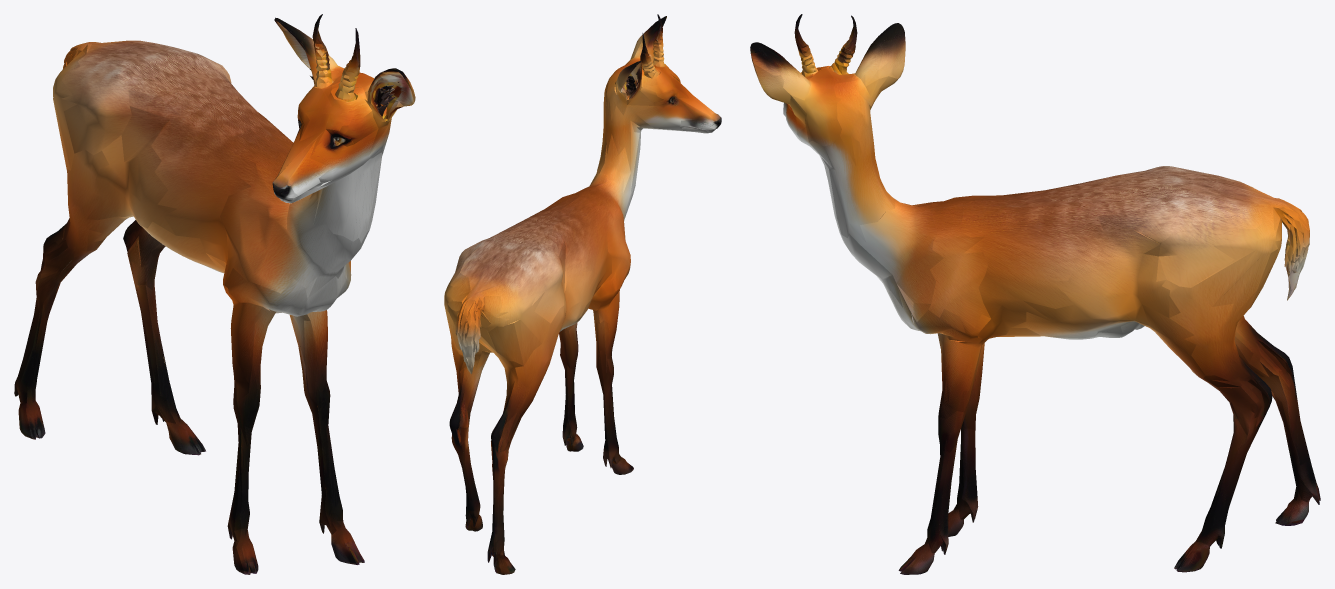
3 views of the same model, side by side, from view 1: azimuth 30°, elevation 25°; view 2: azimuth 150°, elevation 25°; view 3: azimuth 270°, elevation 25° (orthographic). The views are drawn at different scales.
Size of the model in its own units: 0.5584 by 1.9 by 1.84.
Materials: 1 (1 with a texture image).
